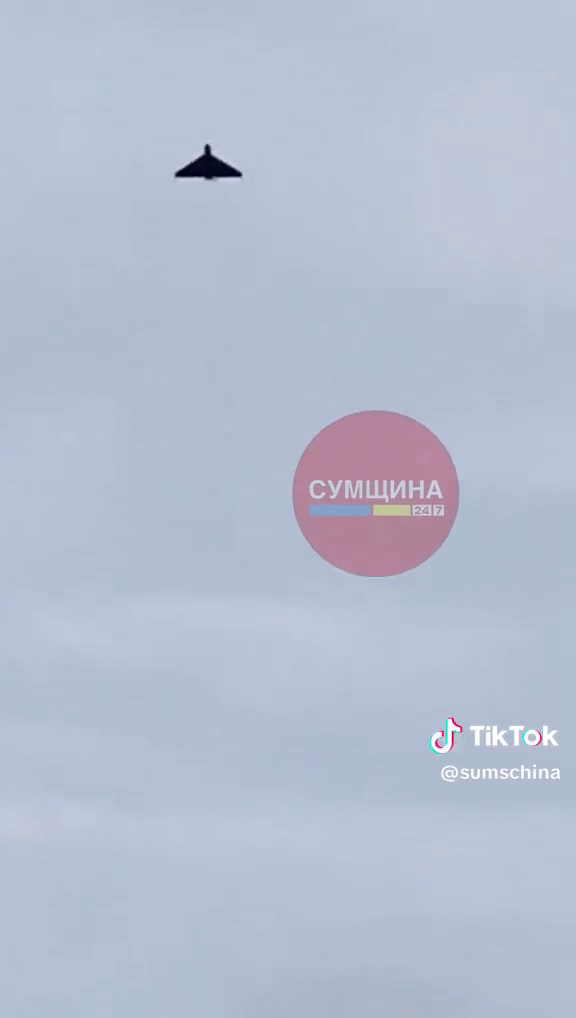shahed: (159, 124, 256, 196)
